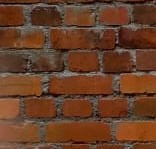brick: (50, 27, 117, 49), (44, 121, 113, 142), (49, 74, 113, 95), (1, 74, 44, 96), (114, 120, 156, 142), (1, 122, 42, 143), (1, 29, 46, 48), (118, 72, 156, 94), (119, 27, 156, 49), (23, 97, 59, 119), (31, 52, 66, 73), (67, 50, 100, 72), (31, 4, 63, 26), (63, 97, 95, 118), (65, 5, 96, 26), (100, 5, 130, 26), (99, 97, 129, 118), (104, 50, 133, 70), (1, 5, 26, 26), (1, 52, 28, 71), (1, 97, 23, 120), (133, 4, 156, 25), (133, 96, 156, 117), (136, 49, 156, 72)
